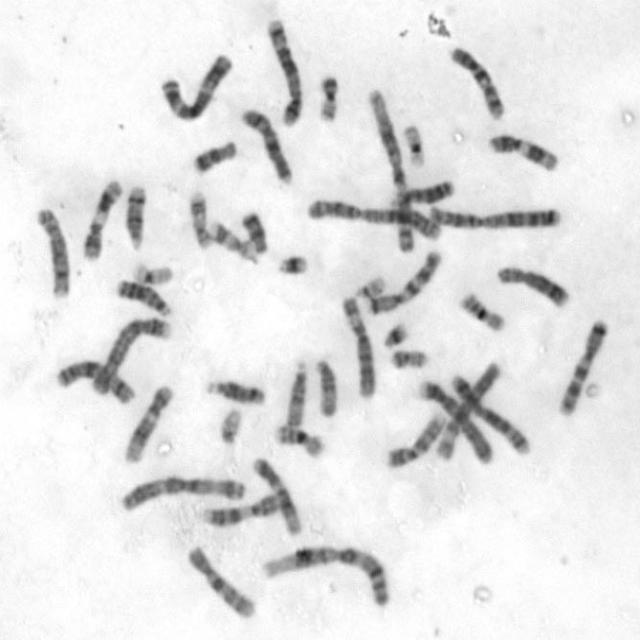A1: (257, 540, 393, 609), (364, 83, 416, 257)
A2: (302, 193, 444, 243), (422, 198, 563, 234)
A3: (156, 49, 232, 123), (116, 471, 248, 513)
B4: (414, 373, 496, 465), (87, 312, 174, 398)
B5: (447, 368, 532, 458), (263, 15, 304, 128)
C10: (182, 540, 258, 622), (447, 41, 507, 122)
C11: (78, 175, 124, 262), (485, 130, 560, 174)
C12: (249, 452, 303, 537), (121, 380, 175, 464)
C6: (432, 358, 502, 462), (338, 292, 377, 400)
C7: (554, 314, 609, 418), (364, 246, 443, 316)
C8: (32, 204, 72, 301), (493, 260, 571, 309)
C9: (384, 413, 456, 472), (196, 488, 283, 529)
D13: (113, 275, 171, 317), (390, 175, 454, 206)
D14: (202, 373, 267, 408), (122, 182, 148, 250)
D15: (282, 359, 309, 429), (311, 356, 340, 419)
E16: (455, 289, 506, 333), (272, 420, 325, 460)
E17: (205, 217, 256, 262), (186, 188, 214, 250)
E18: (188, 137, 239, 176), (239, 208, 269, 254)
F19: (400, 120, 427, 170), (129, 259, 175, 287)
F20: (314, 71, 341, 124), (386, 345, 428, 370)
G21: (274, 250, 311, 277), (380, 318, 410, 350)
G22: (215, 404, 245, 446), (351, 273, 388, 299)
X: (238, 105, 295, 185), (52, 354, 136, 406)
